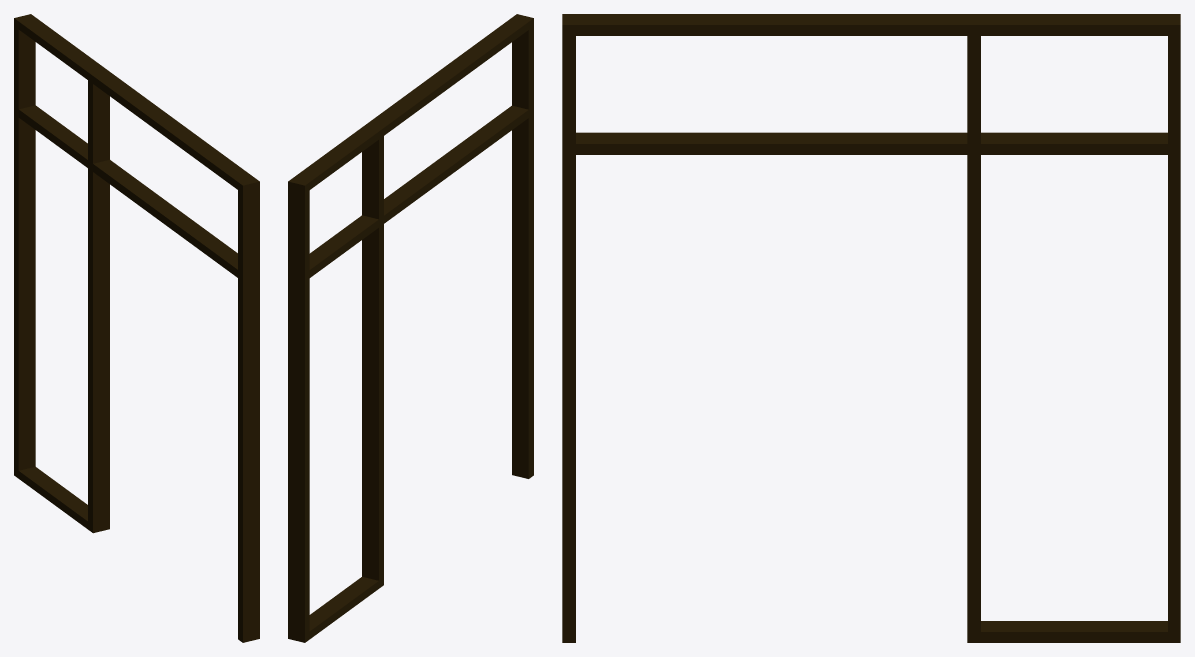
File: ARC Right Frame.fbx
The picture shows the model from 3 angles, left to right: view 1: azimuth 30°, elevation 25°; view 2: azimuth 150°, elevation 25°; view 3: azimuth 270°, elevation 25°; orthographic projection. The views are drawn at different scales.
Visible parts, largest first — view 1: Cube; view 2: Cube; view 3: Cube.
Boxes of the visible parts, <box> form: Cube: <box>14,14,259,642</box>; Cube: <box>288,14,533,642</box>; Cube: <box>562,14,1180,642</box>.
Size of the model in its own units: 101 by 2599 by 2358.
